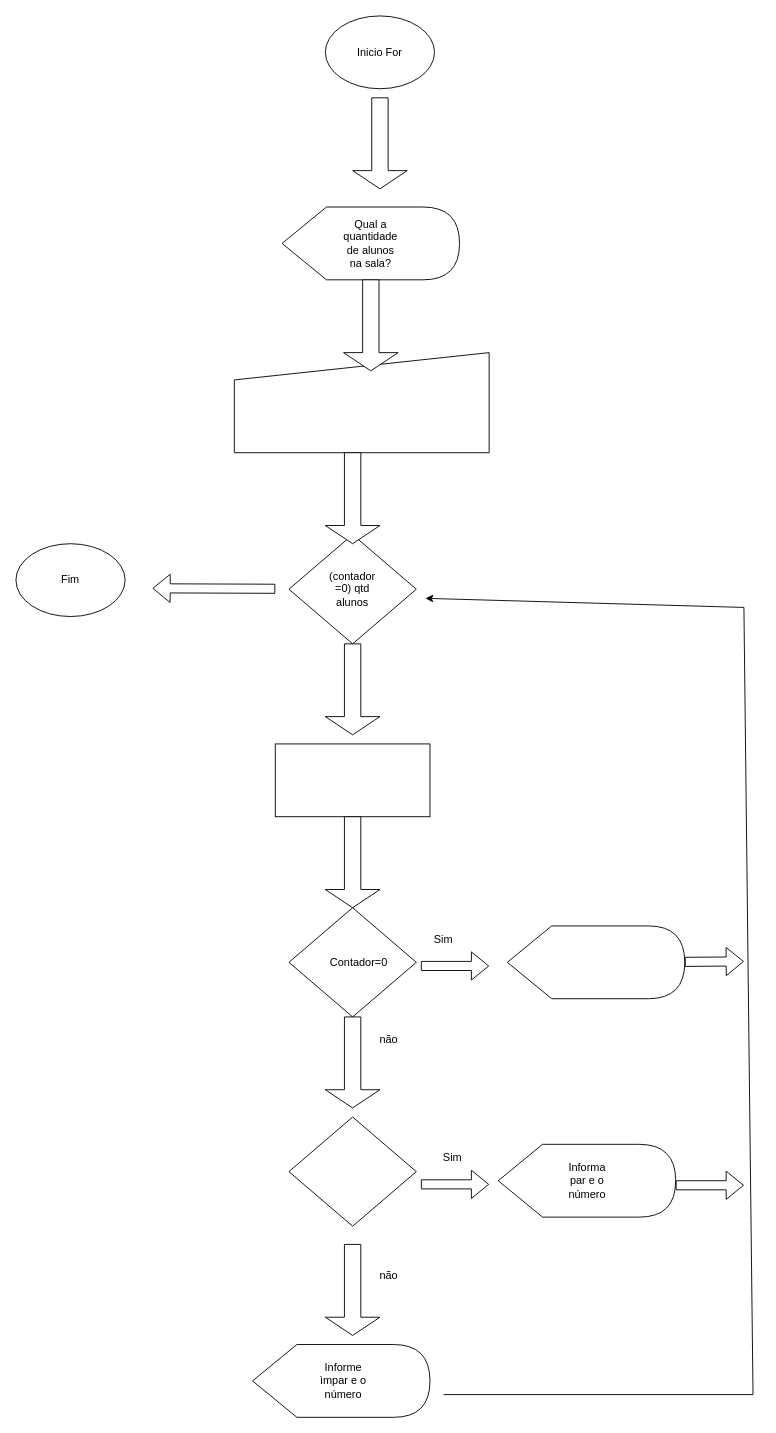
This 776x1433 diagram has some shape labels left out. The shapes that lost their labels are listed below. From the top down, each one's centre as x and y in pixels, then its label:
At point 361,402: "Quantidade de Alunos".
At point 352,780: "Contador +1".
At point 595,962: "Informa zero e o número".
At point 352,1171: "(Contador %2) = 0".
